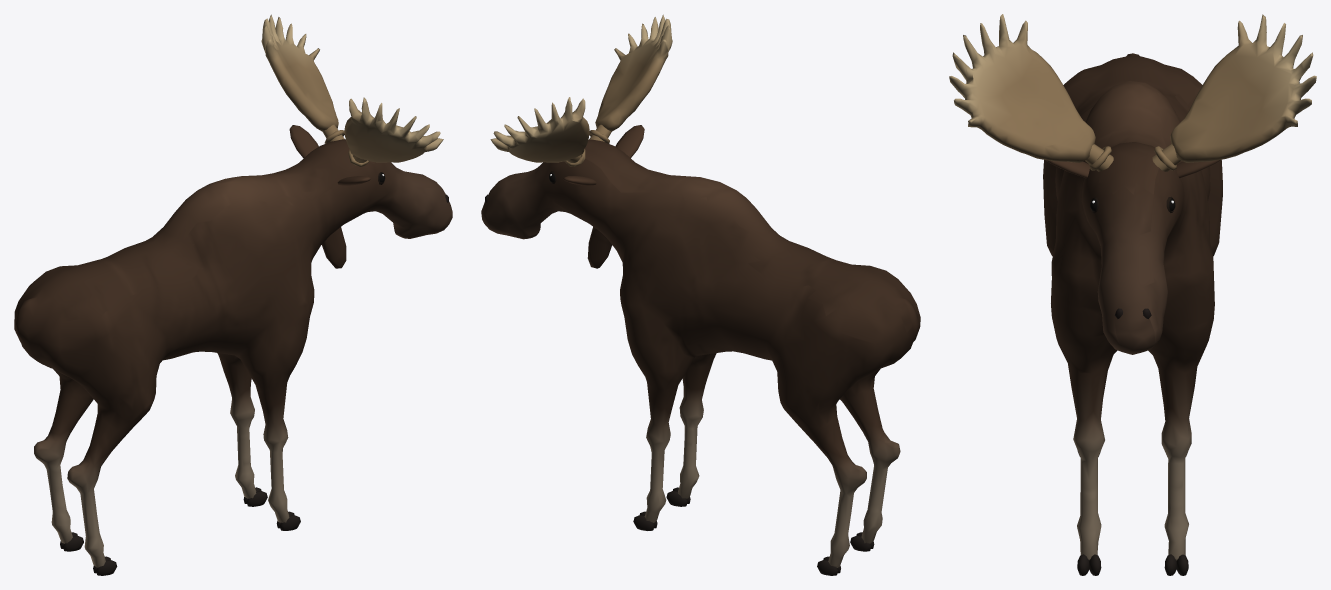
The model's file is moose.glb.
The picture shows the model from 3 angles, left to right: view 1: azimuth 30°, elevation 25°; view 2: azimuth 150°, elevation 25°; view 3: azimuth 270°, elevation 25°; orthographic projection. The views are drawn at different scales.
Visible parts, largest first — view 1: moose; view 2: moose; view 3: moose.
Boxes of the visible parts, x1,y1,x2,y2 form: moose: (14, 14, 452, 575); moose: (481, 14, 920, 575); moose: (949, 14, 1316, 575).
Size of the model in its own units: 63.46 by 62.16 by 35.35.
1 material, 1 textured.
